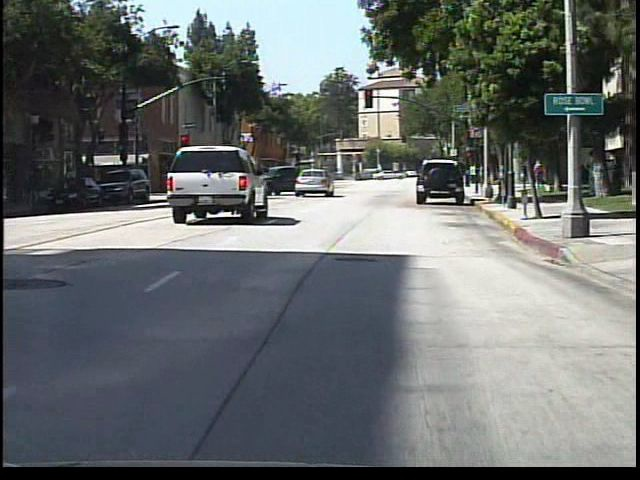person: (315, 158, 335, 196), (532, 157, 547, 194), (470, 160, 477, 186)
